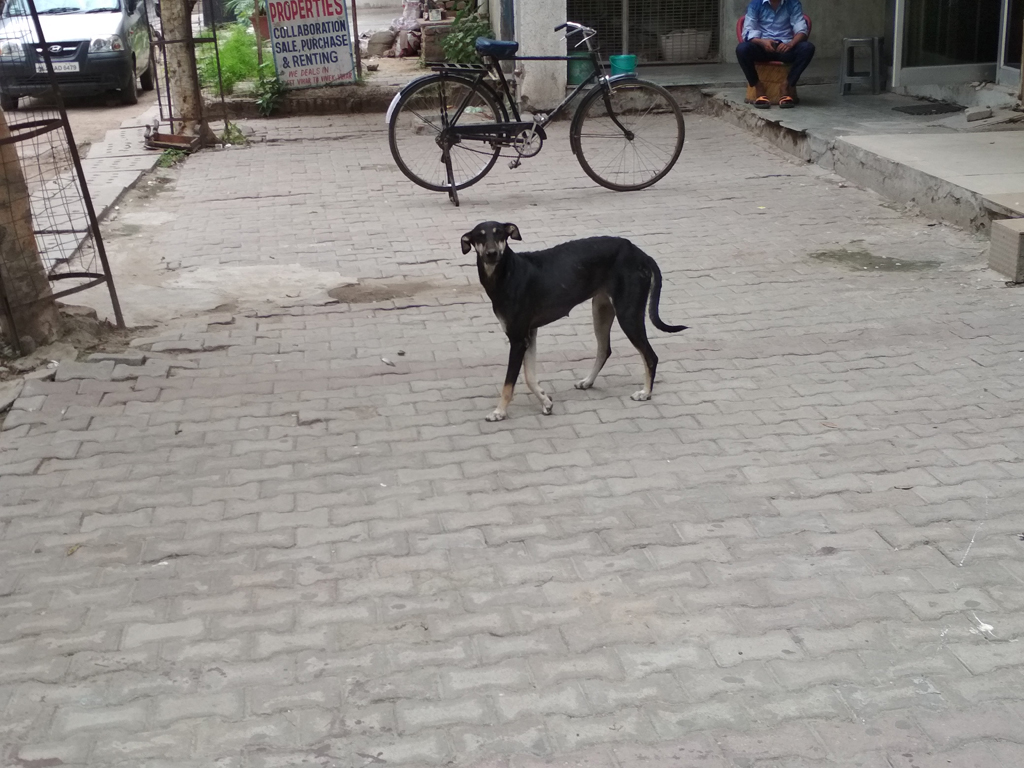dog: (461, 221, 687, 420)
